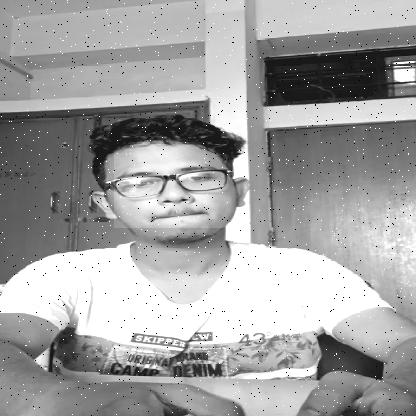Normal: (114, 136, 247, 228)
